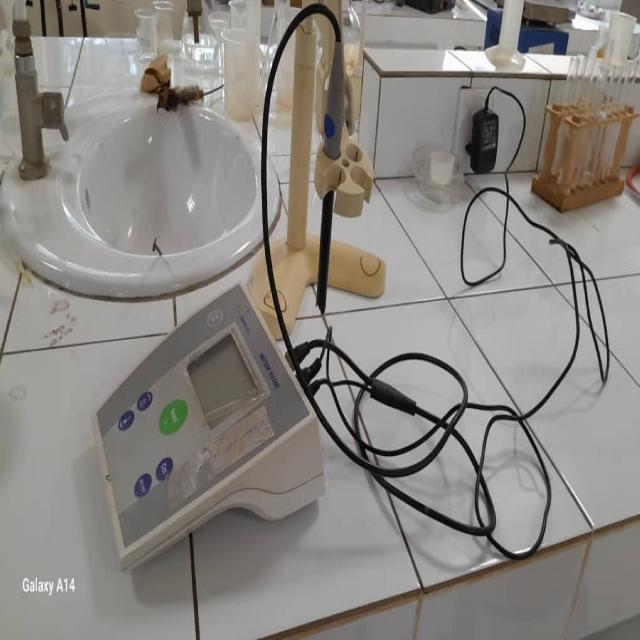PH meter: (78, 154, 362, 562)
